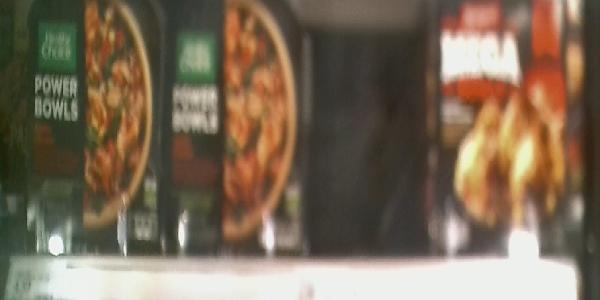pizza1: (440, 2, 588, 256), (14, 1, 161, 254), (161, 1, 300, 258)
